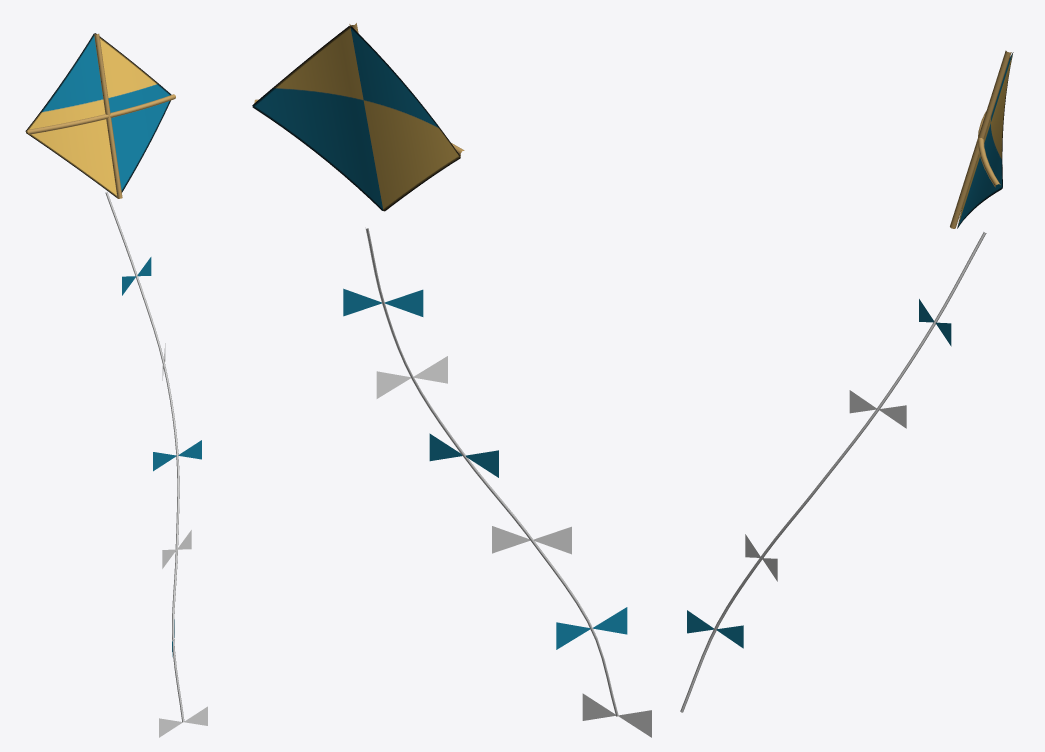
File: capucheta-3.glb
3 views of the same model, side by side, from view 1: azimuth 30°, elevation 25°; view 2: azimuth 150°, elevation 25°; view 3: azimuth 270°, elevation 25° (orthographic). The views are drawn at different scales.
Parts seen in each view (by area): view 1: capucheta-3; view 2: capucheta-3; view 3: capucheta-3.
Part boxes in pixels (bbox=[...]): capucheta-3: bbox=[25, 33, 207, 737]; capucheta-3: bbox=[252, 23, 651, 737]; capucheta-3: bbox=[680, 50, 1013, 712].
Size of the model in its own units: 0.7882 by 2.98 by 1.35.
Materials: 5 (1 with a texture image).
